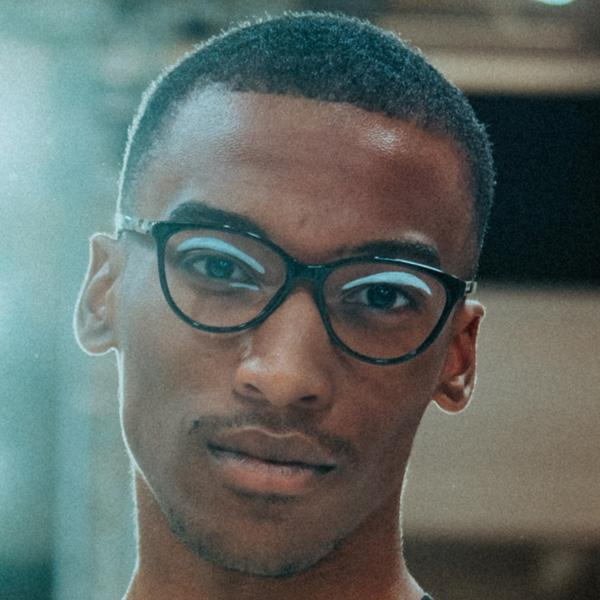Eyes: (171, 229, 274, 305), (333, 265, 425, 329)
